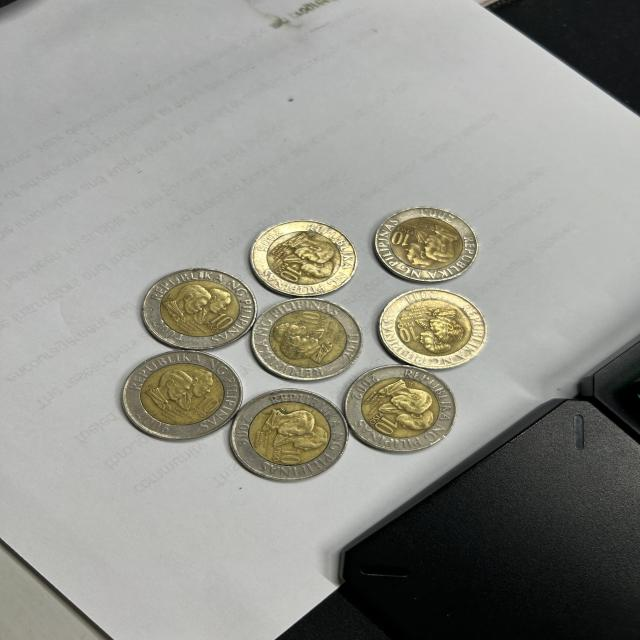10_Old_Front: (372, 415, 400, 435), (279, 448, 303, 467), (389, 229, 414, 247), (198, 394, 220, 413), (212, 312, 235, 330), (280, 264, 301, 280), (397, 326, 418, 342), (300, 310, 321, 325)
